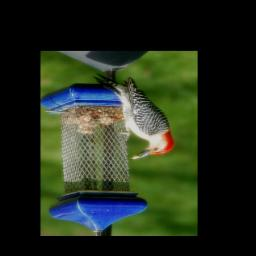Woodpecker: (88, 70, 174, 163)
